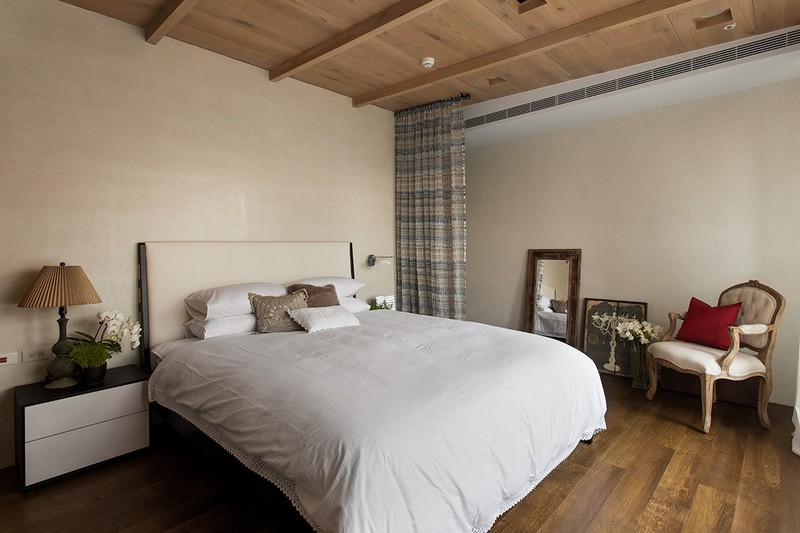bed: (135, 236, 607, 526)
chair: (646, 274, 779, 431)
lamp: (17, 260, 104, 364)
stool: (15, 364, 151, 492)
